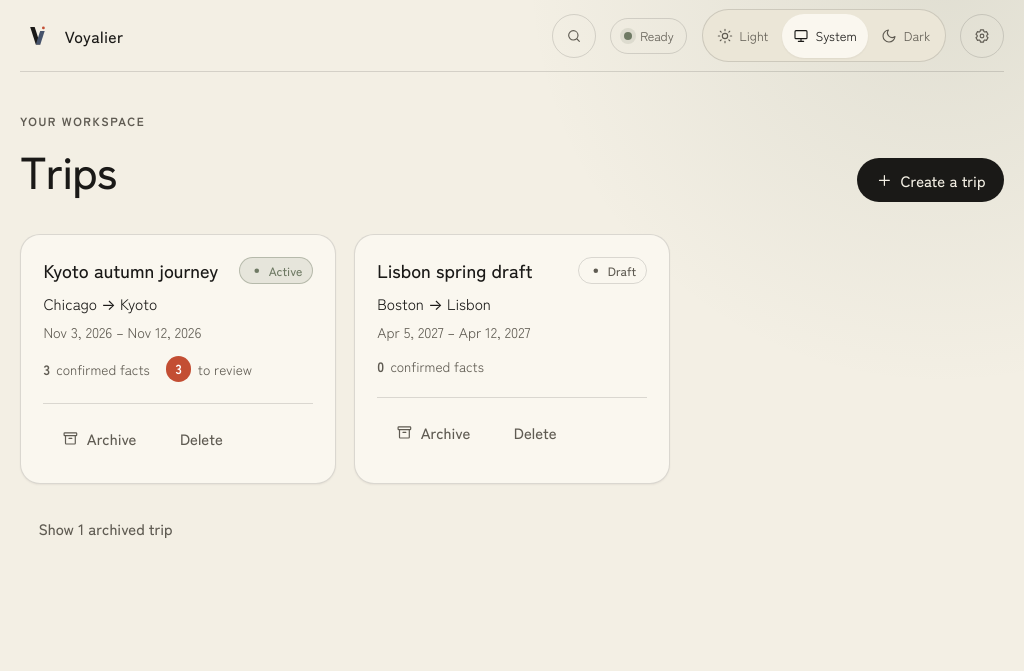
global Retry safe-read ownership › replays notes, advice countries, and vault status exactly once without replaying actions
Click the button with aria-label "Open Kyoto autumn journey": click(131, 270) [43,257,218,283]
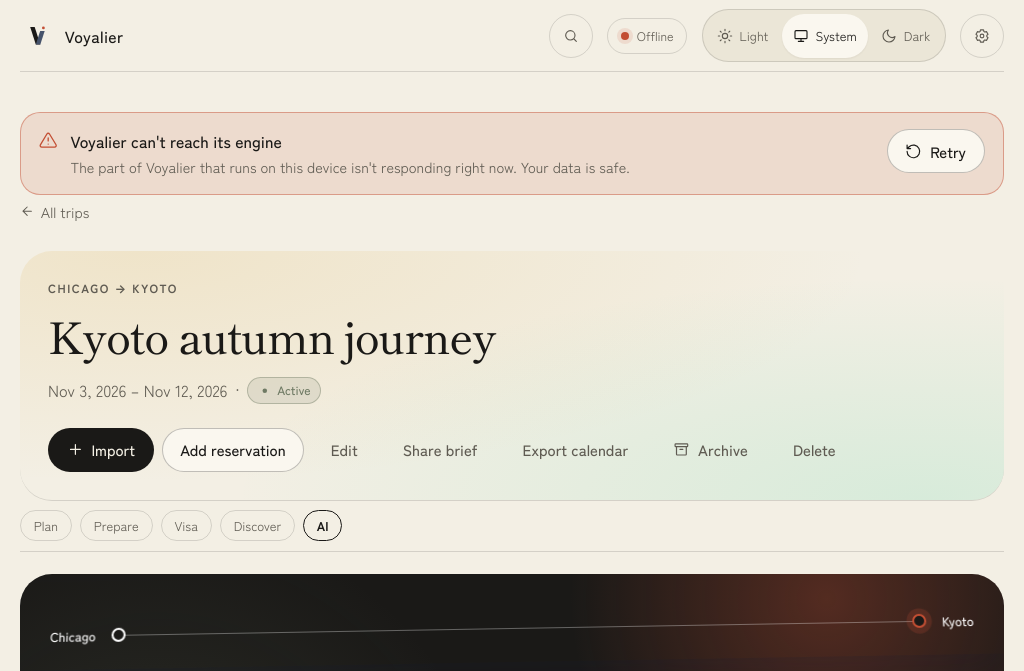
Expected: the heading "Kyoto autumn journey" is shown, [48,304,496,366]
Click the button "Retry": click(936, 151) [887,129,985,173]
(page scrolled)
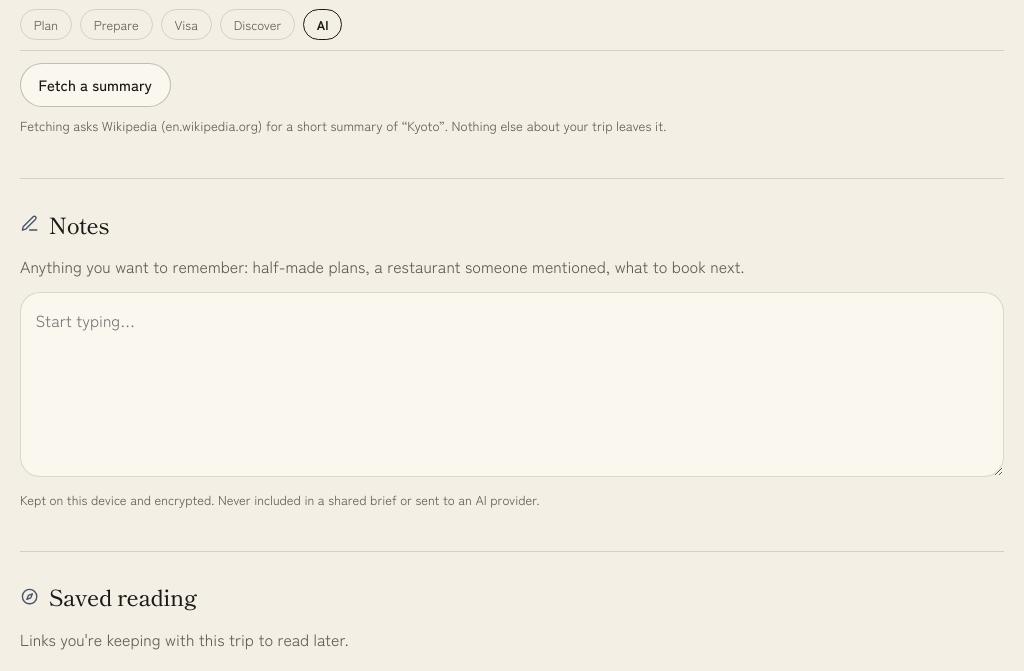
Expected: the text box named "Trip notes" is shown, [20,292,1004,477]
